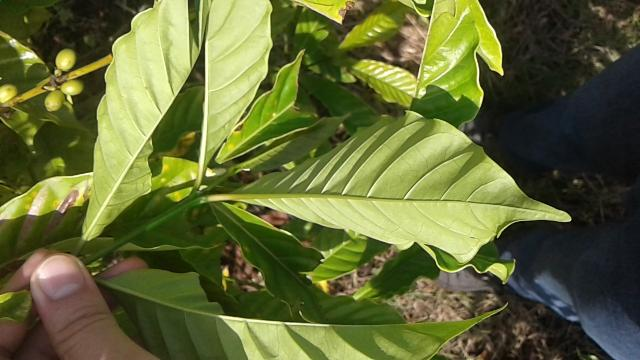healthy: (232, 106, 580, 266)
